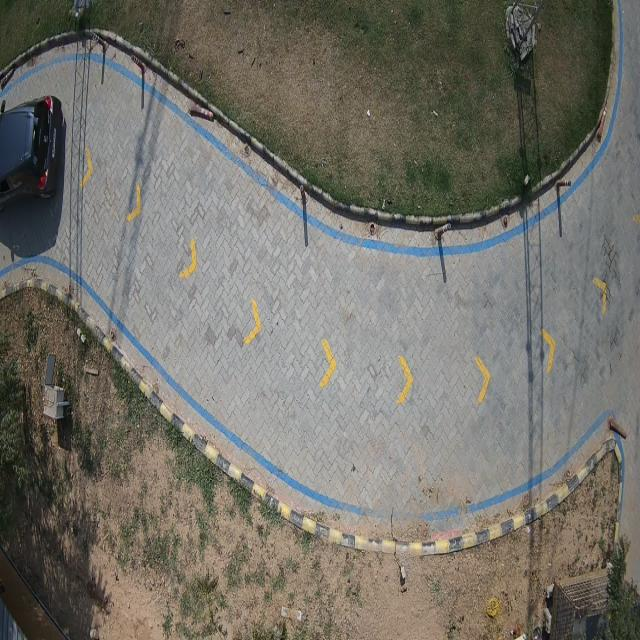car: (0, 96, 64, 210)
